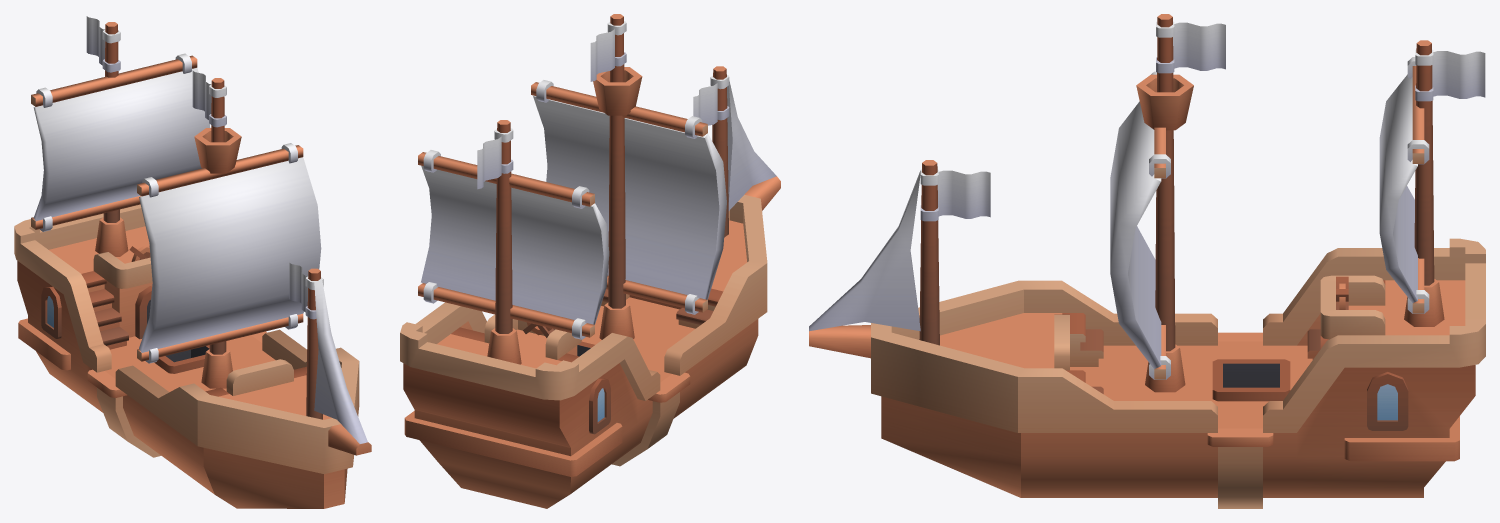
The model's file is ship-large.gltf.
The picture shows the model from 3 angles, left to right: view 1: azimuth 30°, elevation 25°; view 2: azimuth 150°, elevation 25°; view 3: azimuth 270°, elevation 25°; orthographic projection. The views are drawn at different scales.
Visible parts, largest first — view 1: ship-large, sail-a, sail-b, flag-b, flag-c, flag-a; view 2: ship-large, sail-a, sail-b, flag-b, flag-c, flag-a; view 3: ship-large, sail-a, sail-b, flag-c, flag-a, flag-b.
Boxes of the visible parts, x1=… form: ship-large: x1=14, y1=22, x2=371, y2=508; sail-a: x1=137, y1=143, x2=321, y2=363; sail-b: x1=31, y1=53, x2=210, y2=231; flag-b: x1=192, y1=70, x2=226, y2=127; flag-c: x1=86, y1=16, x2=120, y2=72; flag-a: x1=289, y1=262, x2=323, y2=319; ship-large: x1=400, y1=14, x2=780, y2=508; sail-a: x1=531, y1=80, x2=726, y2=314; sail-b: x1=418, y1=150, x2=609, y2=339; flag-b: x1=590, y1=21, x2=626, y2=81; flag-c: x1=477, y1=128, x2=513, y2=189; flag-a: x1=693, y1=75, x2=729, y2=125; ship-large: x1=809, y1=14, x2=1485, y2=508; sail-a: x1=1110, y1=71, x2=1170, y2=379; sail-b: x1=1379, y1=57, x2=1429, y2=313; flag-c: x1=1415, y1=49, x2=1485, y2=101; flag-a: x1=920, y1=169, x2=990, y2=221; flag-b: x1=1156, y1=21, x2=1225, y2=73.
Size of the model in its own units: 4.8 by 9.96 by 13.1.
1 material, 1 textured.
